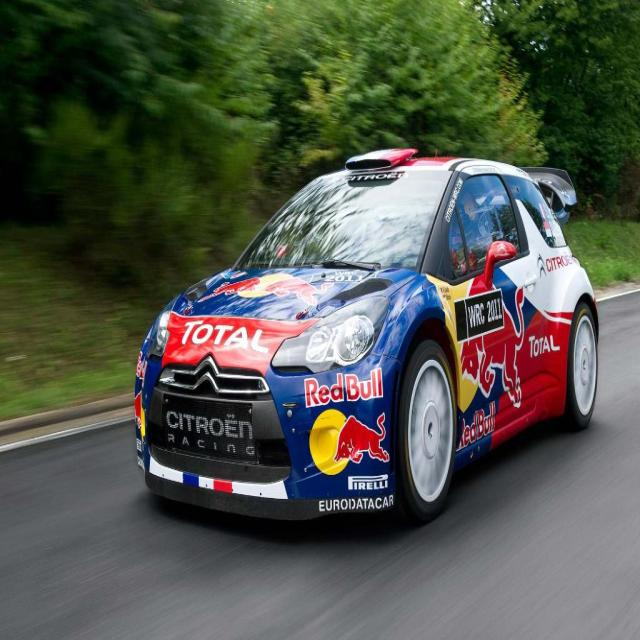car: (131, 142, 597, 534)
